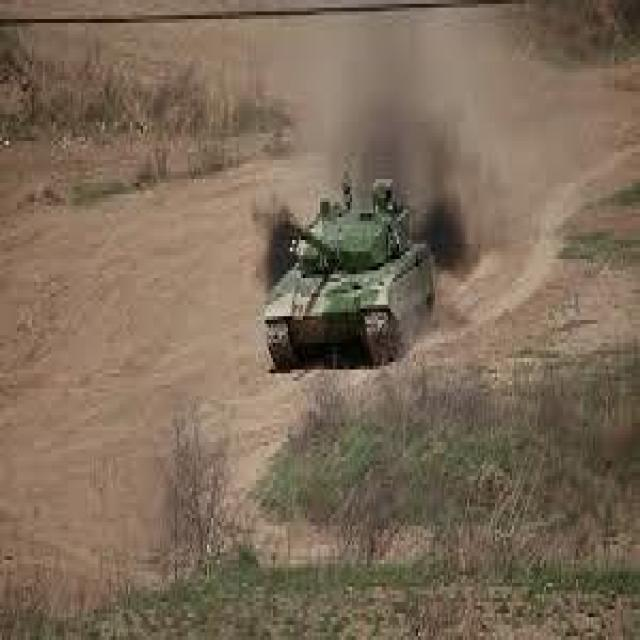Tanks: (248, 160, 435, 396)
